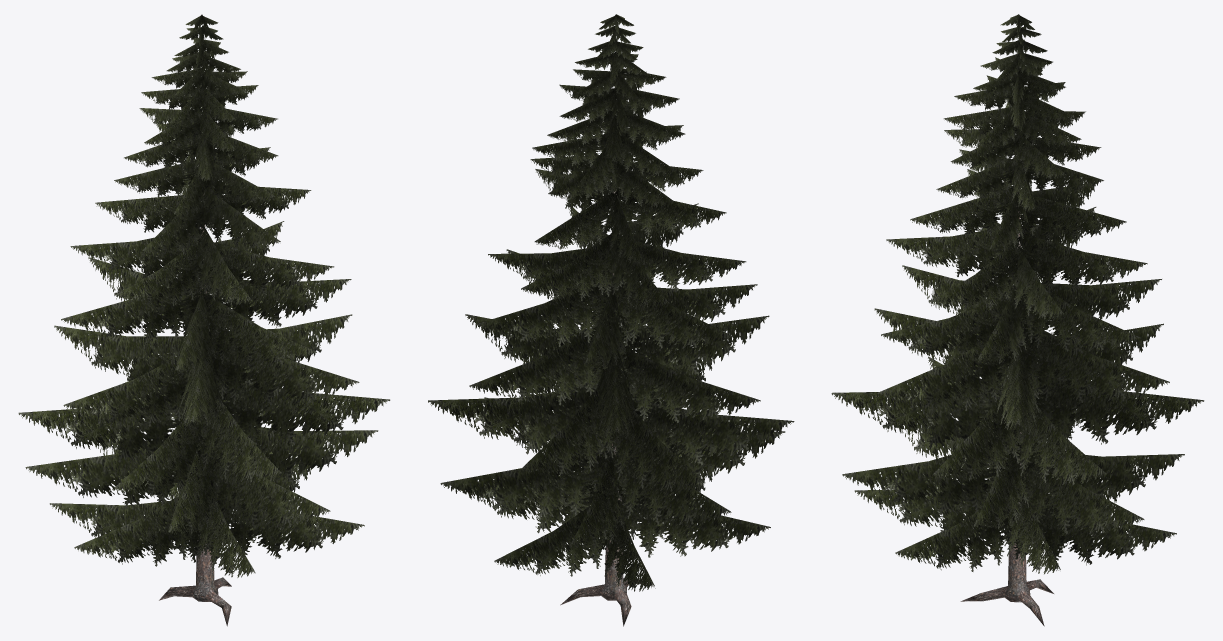
File: Spruce.obj
3 renders of one model, left to right at view 1: azimuth 30°, elevation 25°; view 2: azimuth 150°, elevation 25°; view 3: azimuth 270°, elevation 25°, orthographic.
Parts seen in each view (by area): view 1: Spruce, Tronco; view 2: Spruce, Tronco; view 3: Spruce, Tronco.
Boxes of the visible parts, x1,y1,x2,y2 form: Spruce: [18, 14, 390, 577]; Tronco: [159, 194, 231, 626]; Spruce: [428, 14, 794, 591]; Tronco: [560, 187, 647, 626]; Spruce: [831, 14, 1204, 574]; Tronco: [960, 193, 1053, 626].
Bounding box in the file's own units: 68.61 × 127 × 74.04.
Materials: 2 (2 with a texture image).
